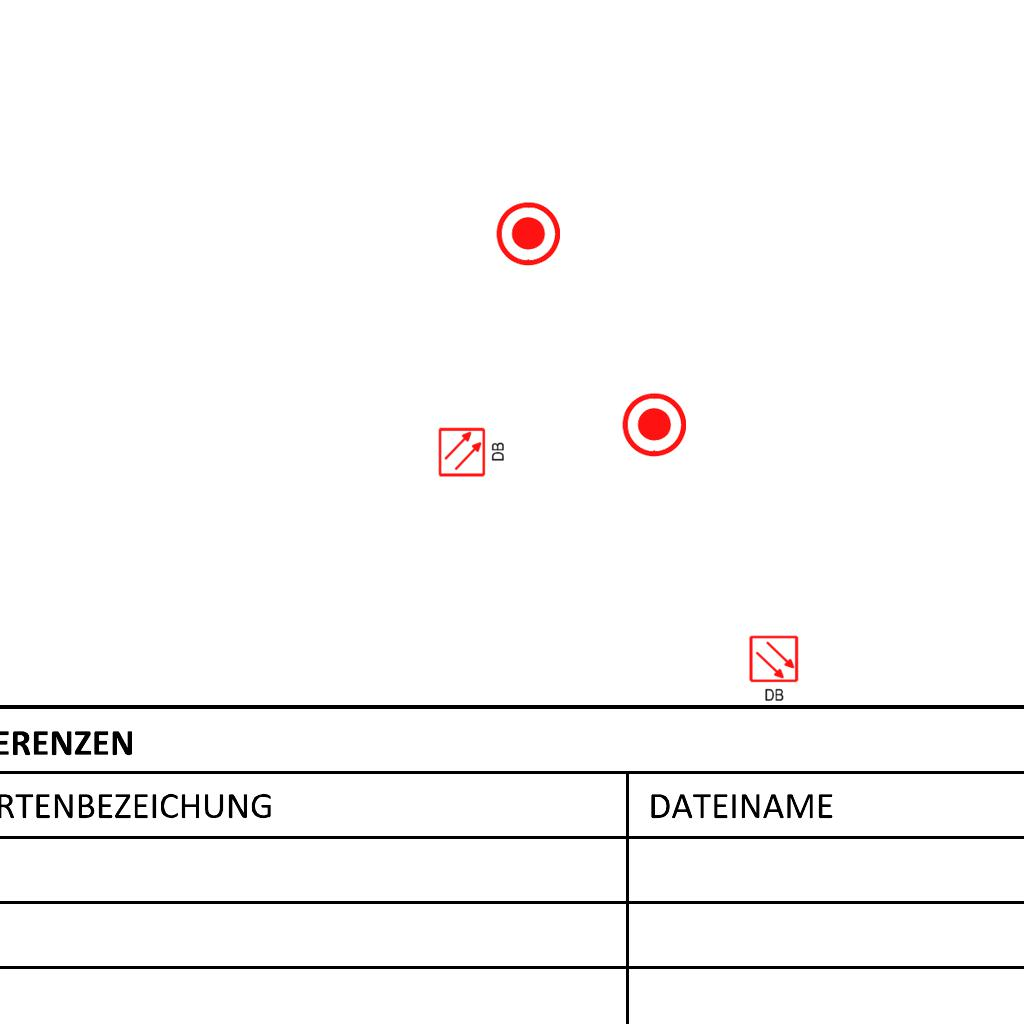DB_Melder_in_Doppelboden_mit_Revisionsoeffnung_mind_40_x_40_cm: (435, 423, 509, 480), (746, 632, 803, 706)
Taster: (620, 391, 686, 457), (494, 200, 560, 266)
